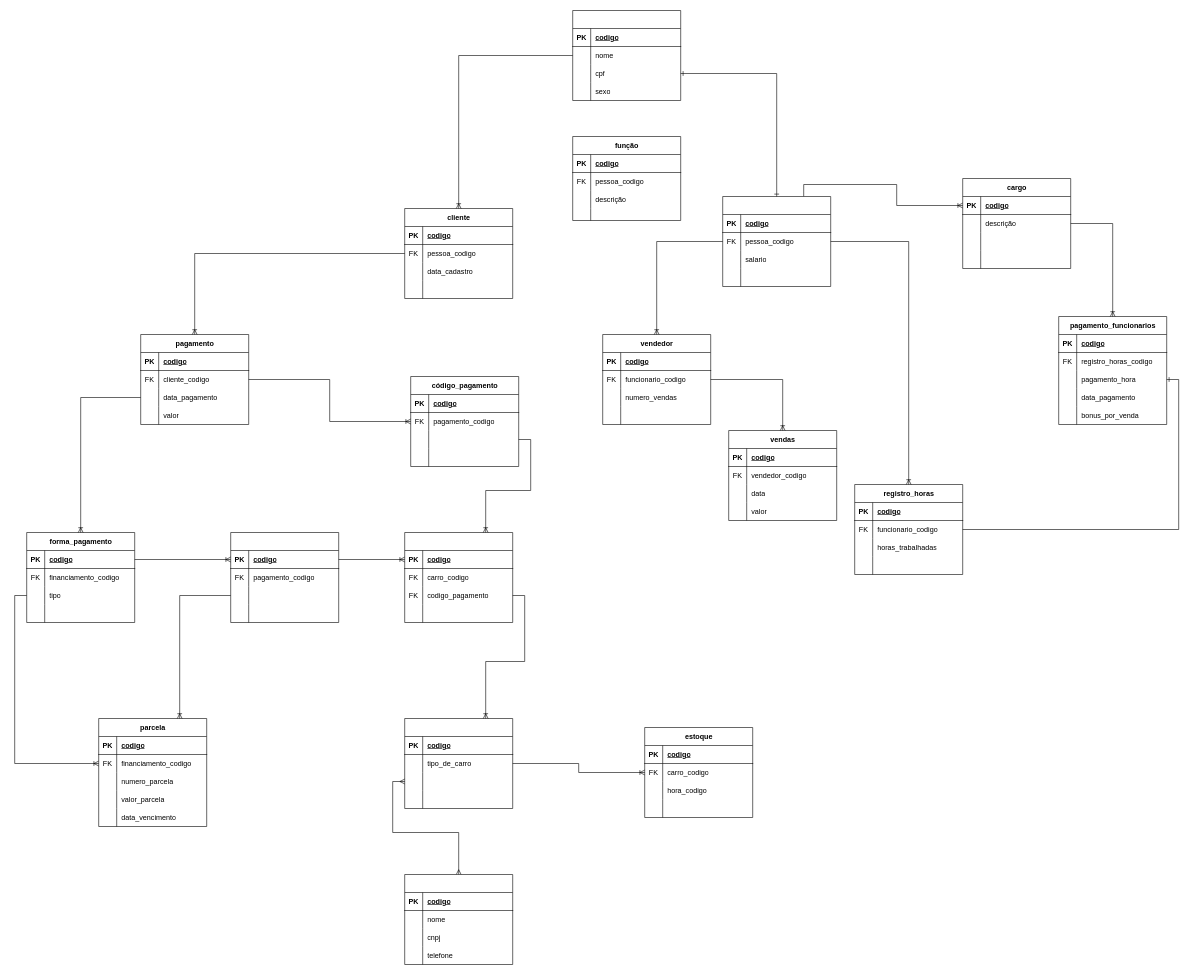
The diagram is 1194 pixels wide and 975 high, and some of its shapes have lost their labels. The shapes that lost their labels are listed below. From the top down, each one's box as (x1, y1, x2, y2) in pixels, then its label:
(572, 10, 681, 100): pessoa
(722, 196, 831, 286): funcionário
(230, 532, 339, 622): financiamento
(404, 532, 513, 622): registro
(404, 718, 513, 808): carro_produto
(404, 874, 513, 964): fornecedor
